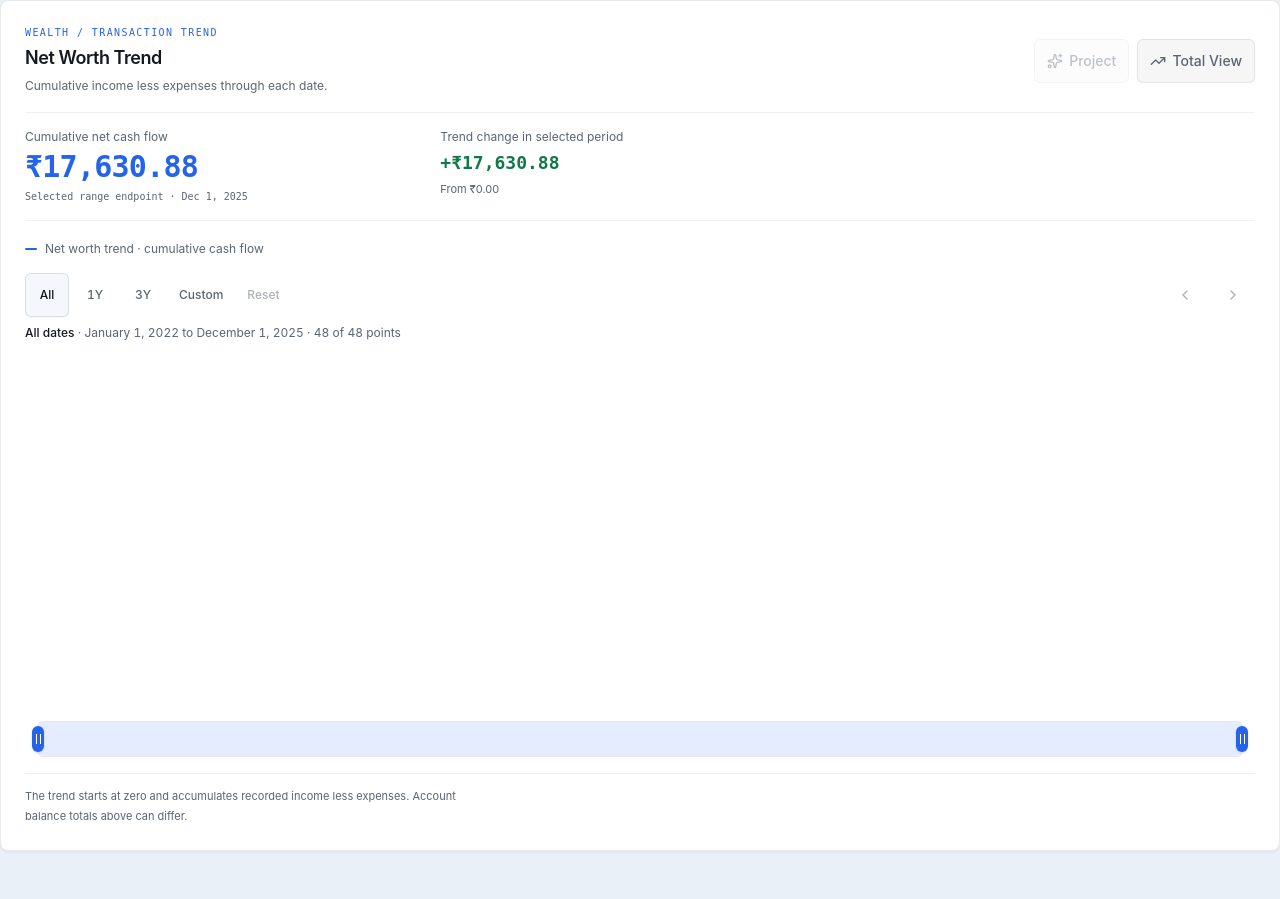
Test: long chart range integration › net worth defaults to All and zoom keeps complete rows and financial values
The image size is (1280, 899).
Expected: the text "48 of 48 points" is shown, [25,325,401,340]
Click the button "1Y": [95, 295] box [73,273,117,317]
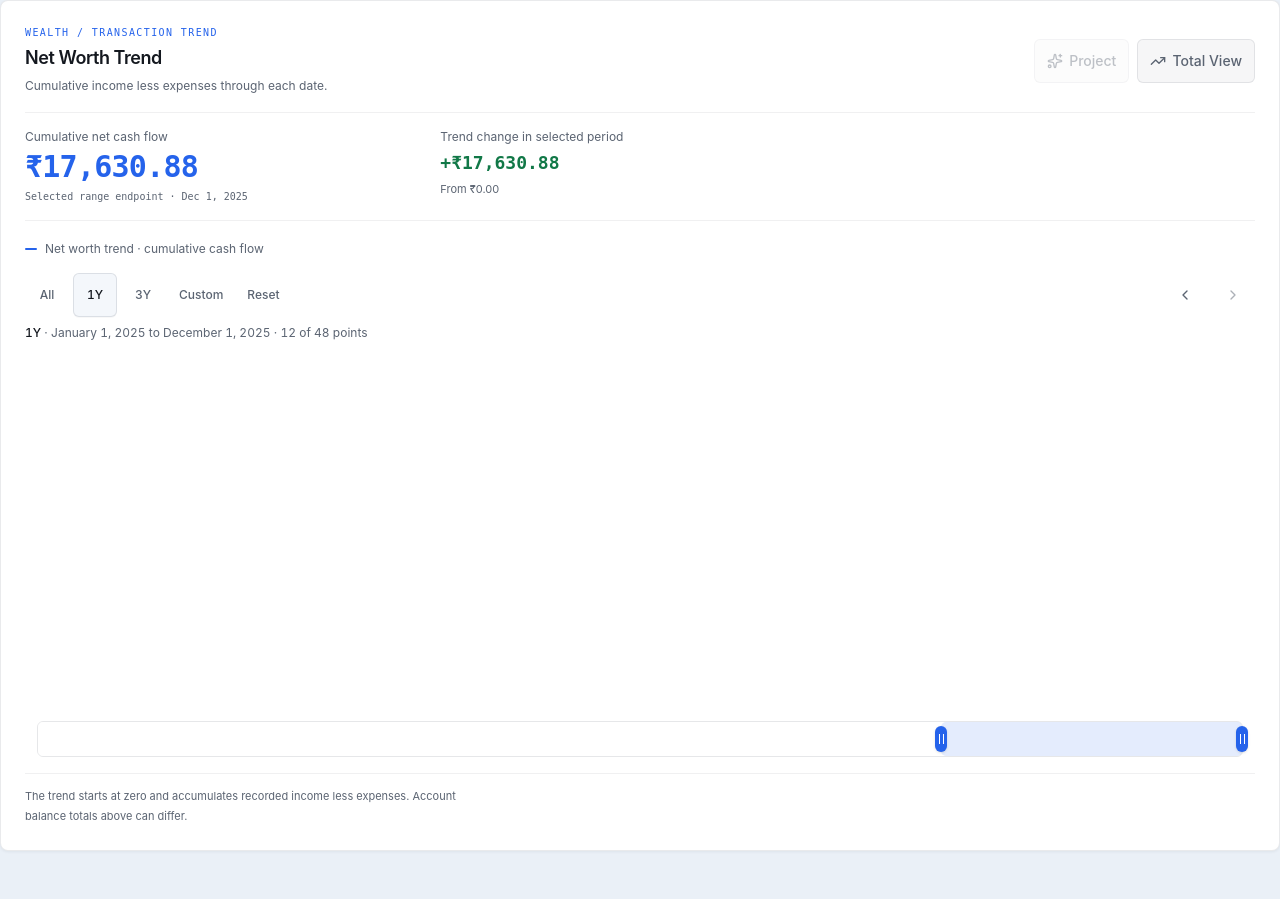
Expected: the text "1Y · January 1, 2025 to December 1, 2025 · 12 of 48 points" is shown, [25,325,368,340]
Click the button "Reset": [264, 295] box [237,273,290,317]
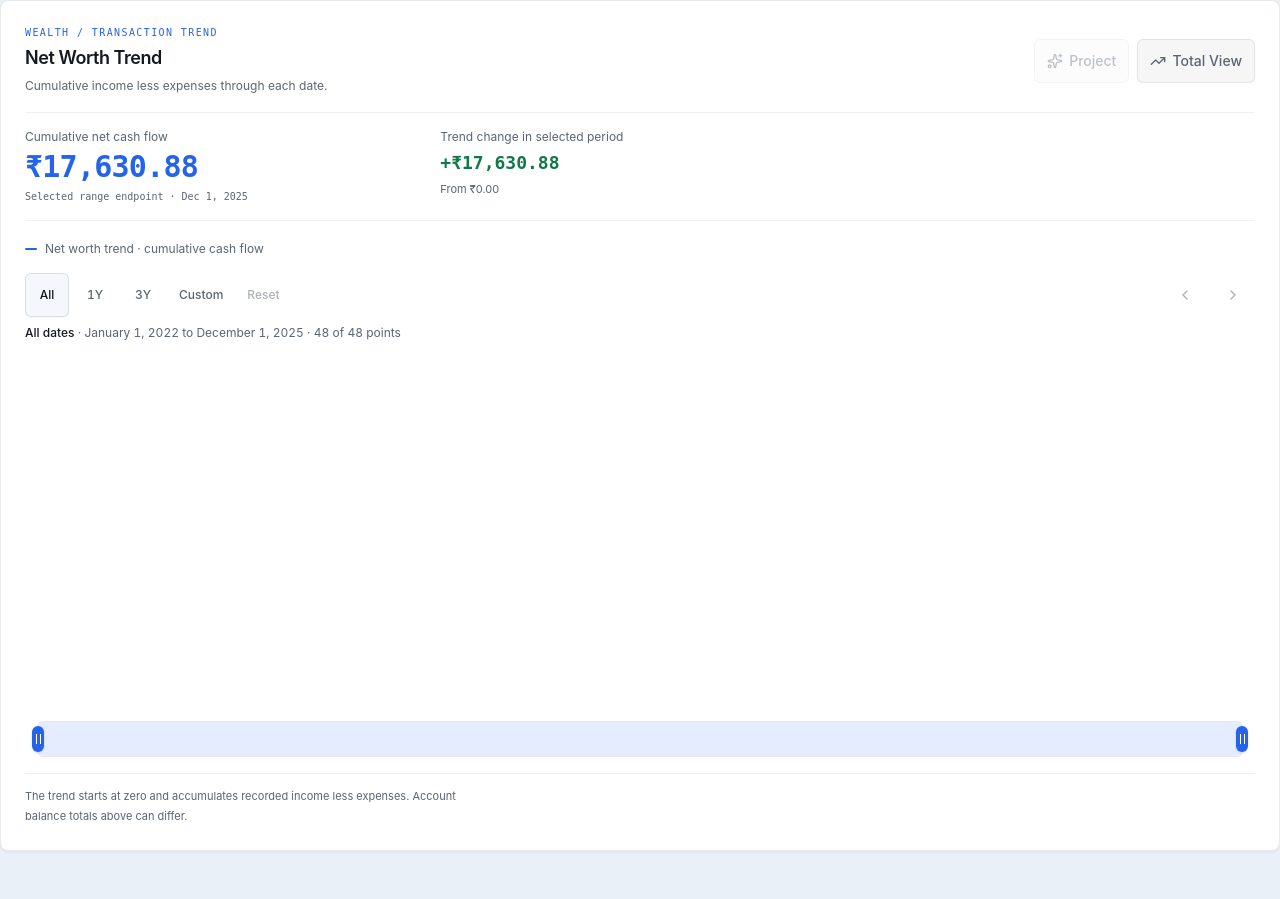
Expected: the text "48 of 48 points" is shown, [25,325,401,340]
